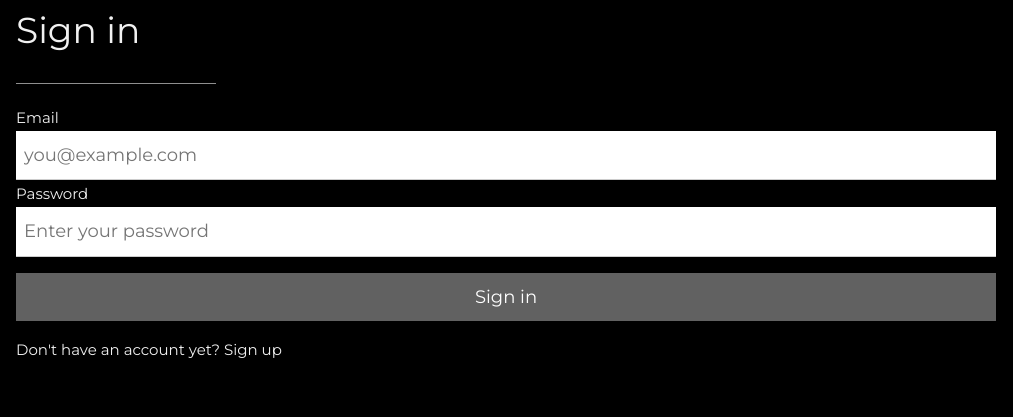
it: Signin › shows error message when Supabase signin fails
This screenshot has width=1013, height=417.
Type "test@example.com" into the field labelled "Email". click: (506, 156)
box: [16, 131, 996, 180]
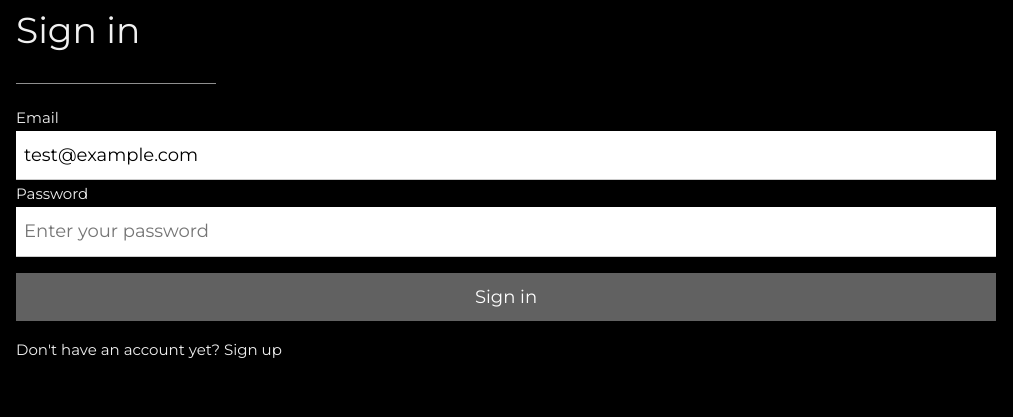
Type "wrong-password" into the password field labelled "Password". click: (506, 232)
box: [16, 207, 996, 257]
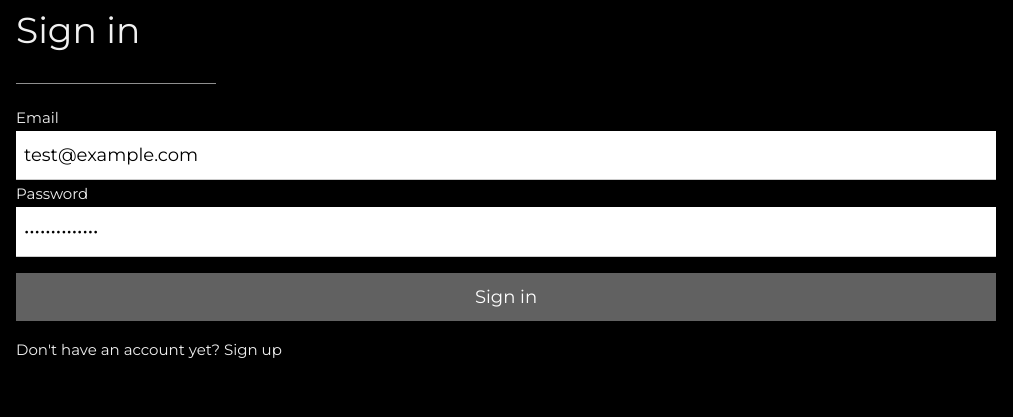
Click the button "Sign in". click: click(506, 297)
box: [16, 273, 996, 321]
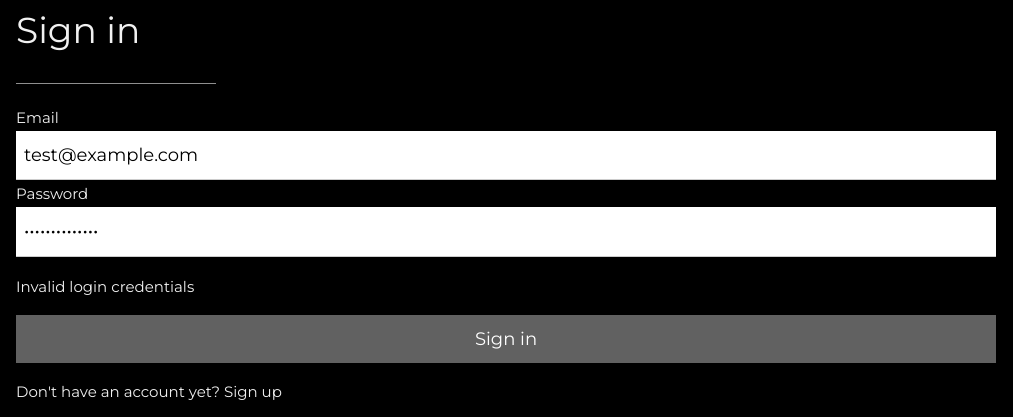
expect the message reads "Invalid login credentials": met, box [16, 277, 194, 296]
